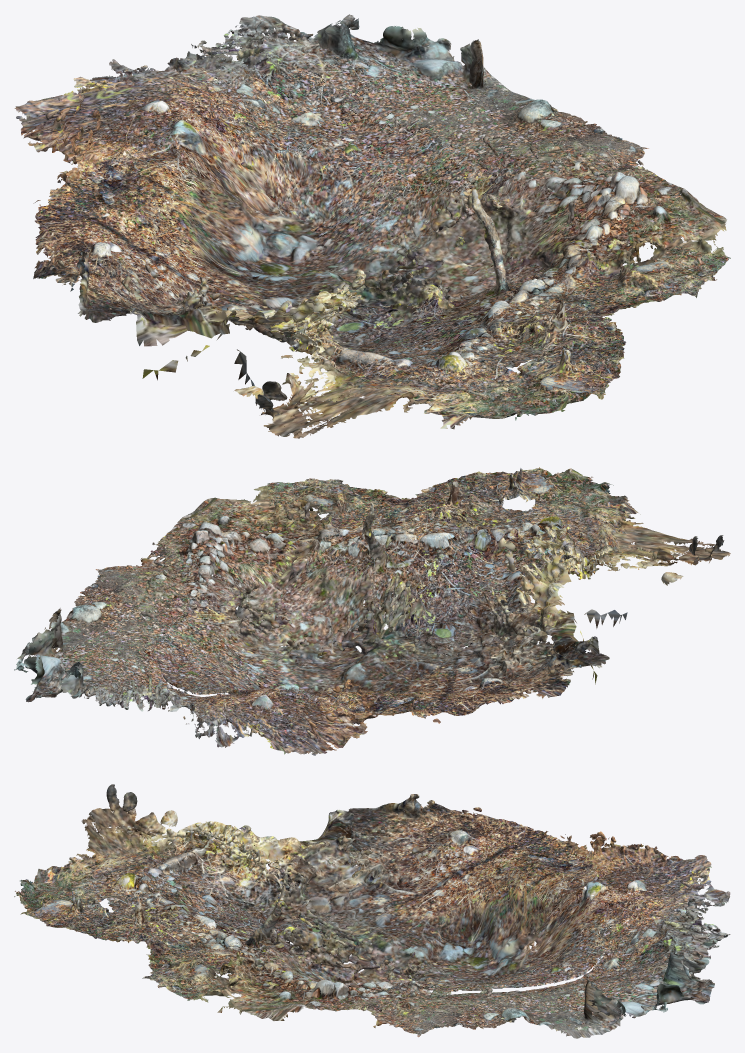
Rendered from abound_20261120-1501_cellar_12.glb.
The picture shows the model from 3 angles, top to bottom: view 1: azimuth 30°, elevation 25°; view 2: azimuth 150°, elevation 25°; view 3: azimuth 270°, elevation 25°; orthographic projection. The views are drawn at different scales.
Visible parts, largest first — view 1: Scene; view 2: Scene; view 3: Scene.
Part boxes in pixels (x1,y1,x2,y2): Scene: (14,14,730,438); Scene: (14,467,730,755); Scene: (14,784,730,1038).
Bounding box in the file's own units: 8.74 × 2.13 × 11.63.
3 materials, 3 textured.
